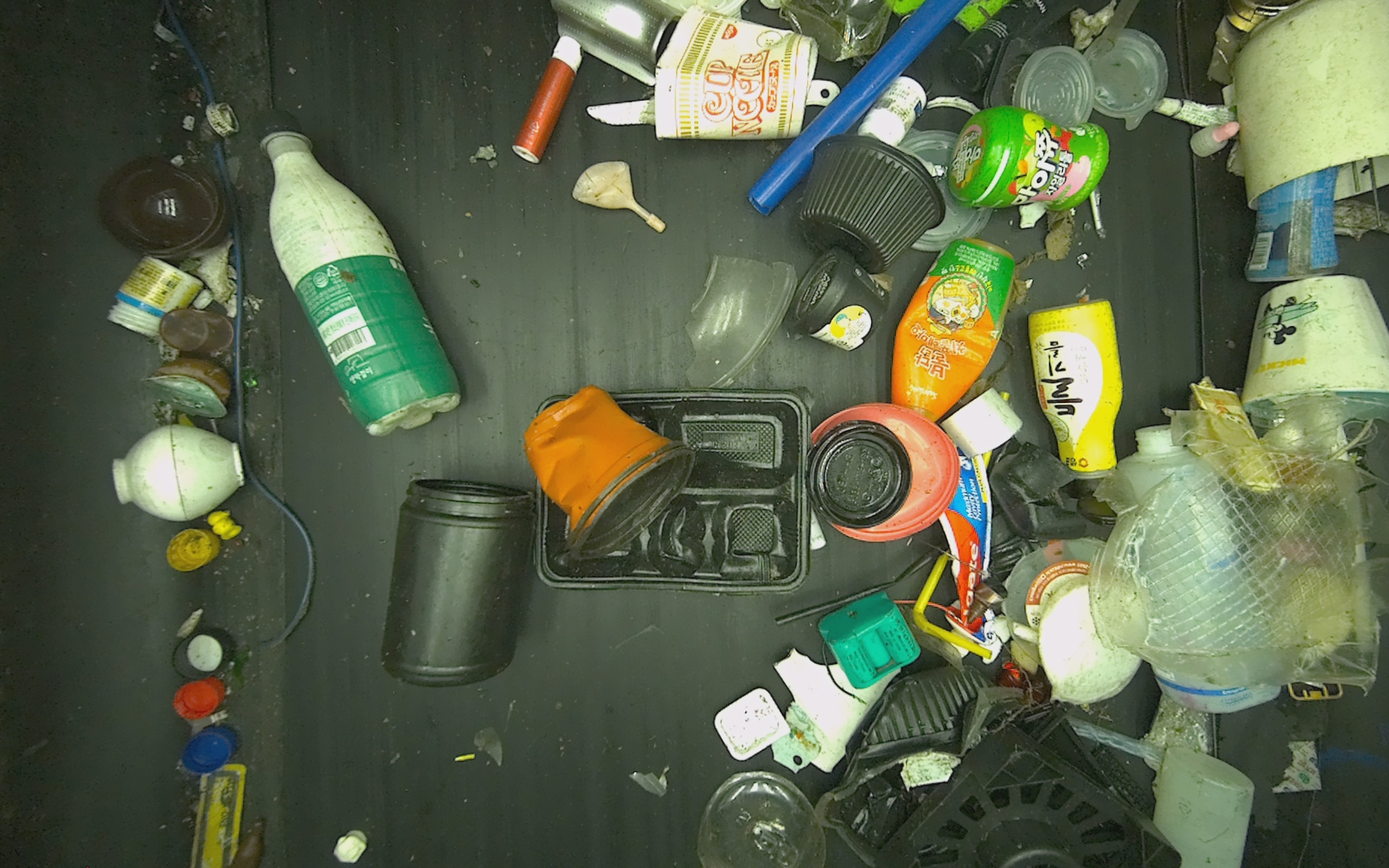PET: (256, 108, 461, 437), (512, 35, 582, 163)
PET-C: (1088, 391, 1389, 697), (697, 772, 826, 868)
